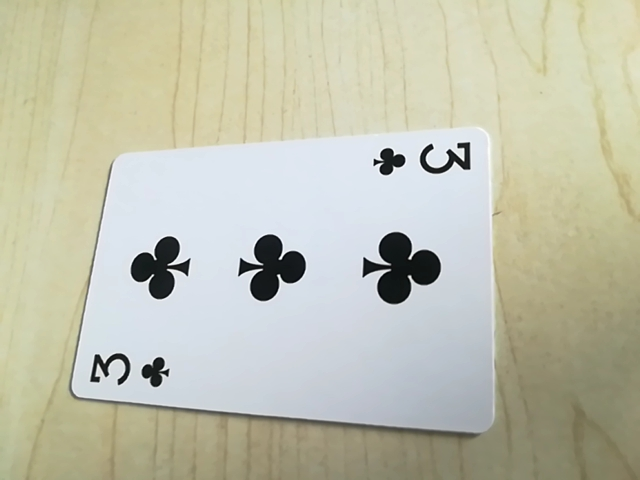mh 3: (80, 343, 179, 398), (370, 137, 475, 182)
